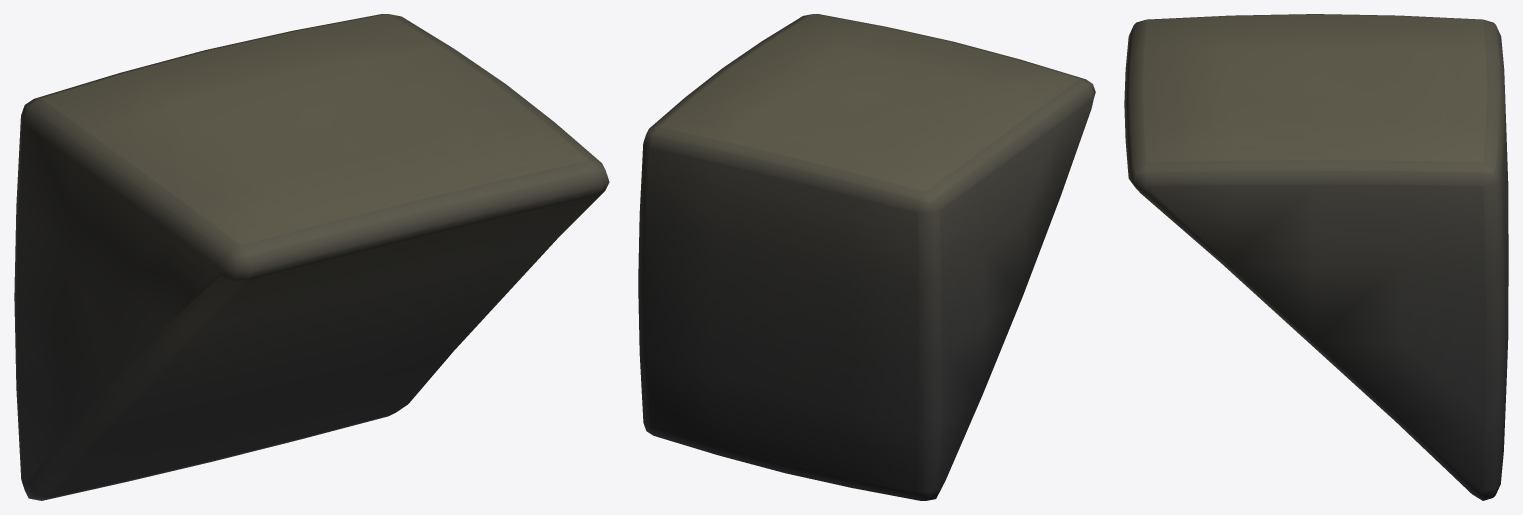
The model's file is DarkStone_Plain_SlopeUnder_Light.fbx.
3 views of the same model, side by side, from view 1: azimuth 30°, elevation 25°; view 2: azimuth 150°, elevation 25°; view 3: azimuth 270°, elevation 25° (orthographic). The views are drawn at different scales.
Visible parts, largest first — view 1: DarkStone_Plain_SlopeUnder_Light_LOD0; view 2: DarkStone_Plain_SlopeUnder_Light_LOD0; view 3: DarkStone_Plain_SlopeUnder_Light_LOD0.
Part boxes in pixels (bbox=[...]): DarkStone_Plain_SlopeUnder_Light_LOD0: bbox=[14, 14, 609, 500]; DarkStone_Plain_SlopeUnder_Light_LOD0: bbox=[638, 14, 1095, 500]; DarkStone_Plain_SlopeUnder_Light_LOD0: bbox=[1124, 14, 1508, 500].
Size of what is drawn, in the model's own units: 1.09 by 1.08 by 1.08.
